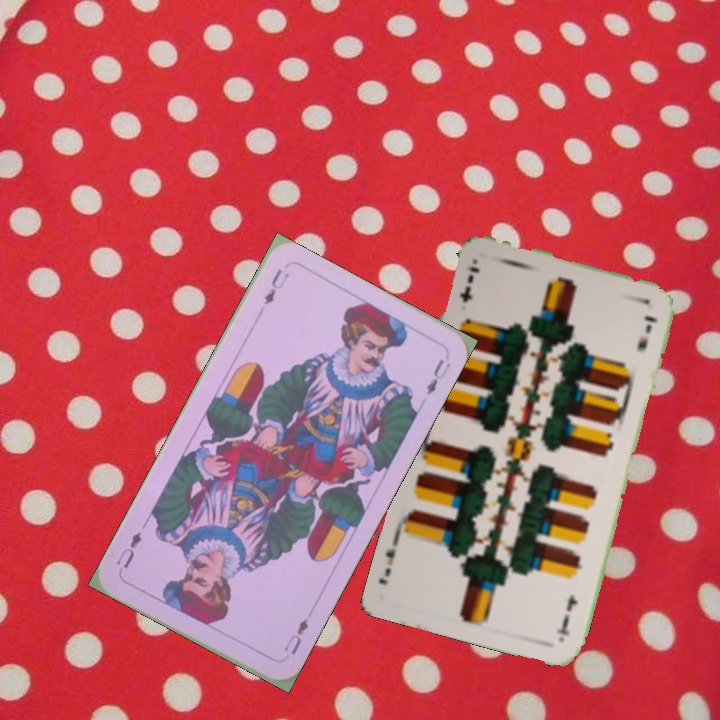E7: (552, 590, 580, 642), (455, 262, 483, 306)
EU: (260, 264, 292, 307), (280, 614, 311, 658)
